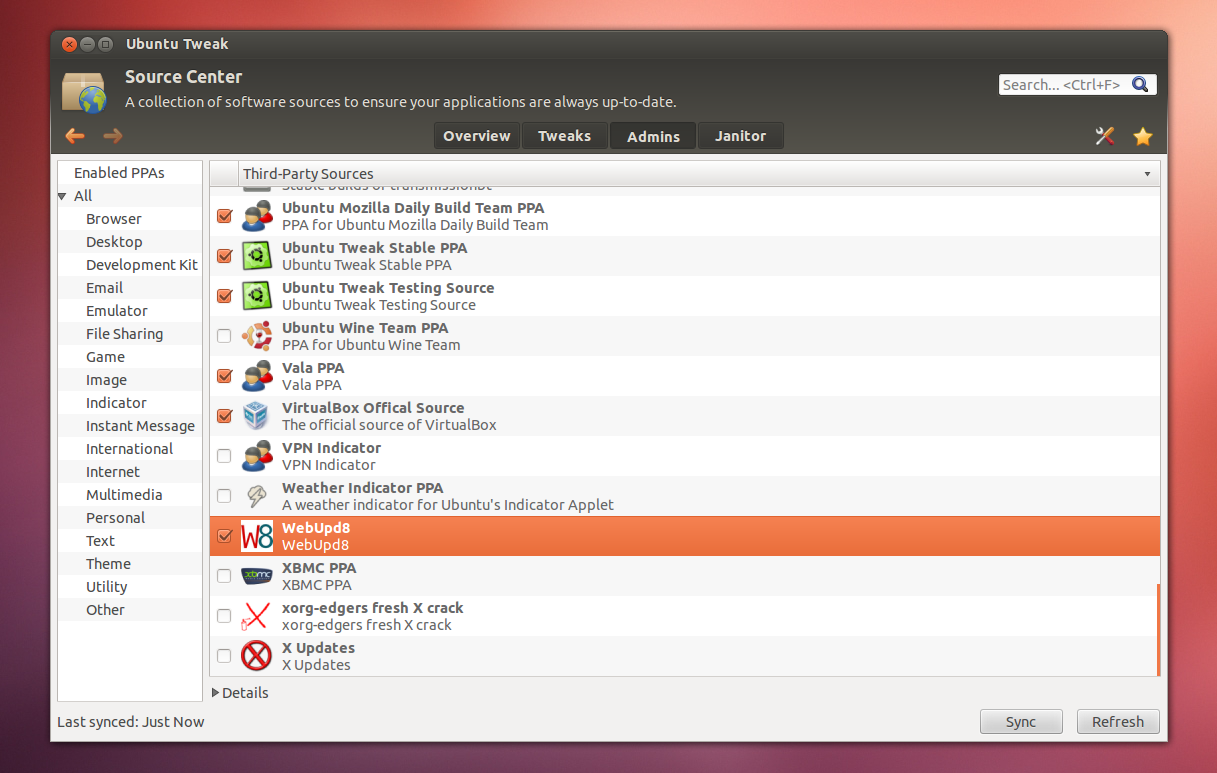searchIcon: (1123, 74, 1157, 97)
